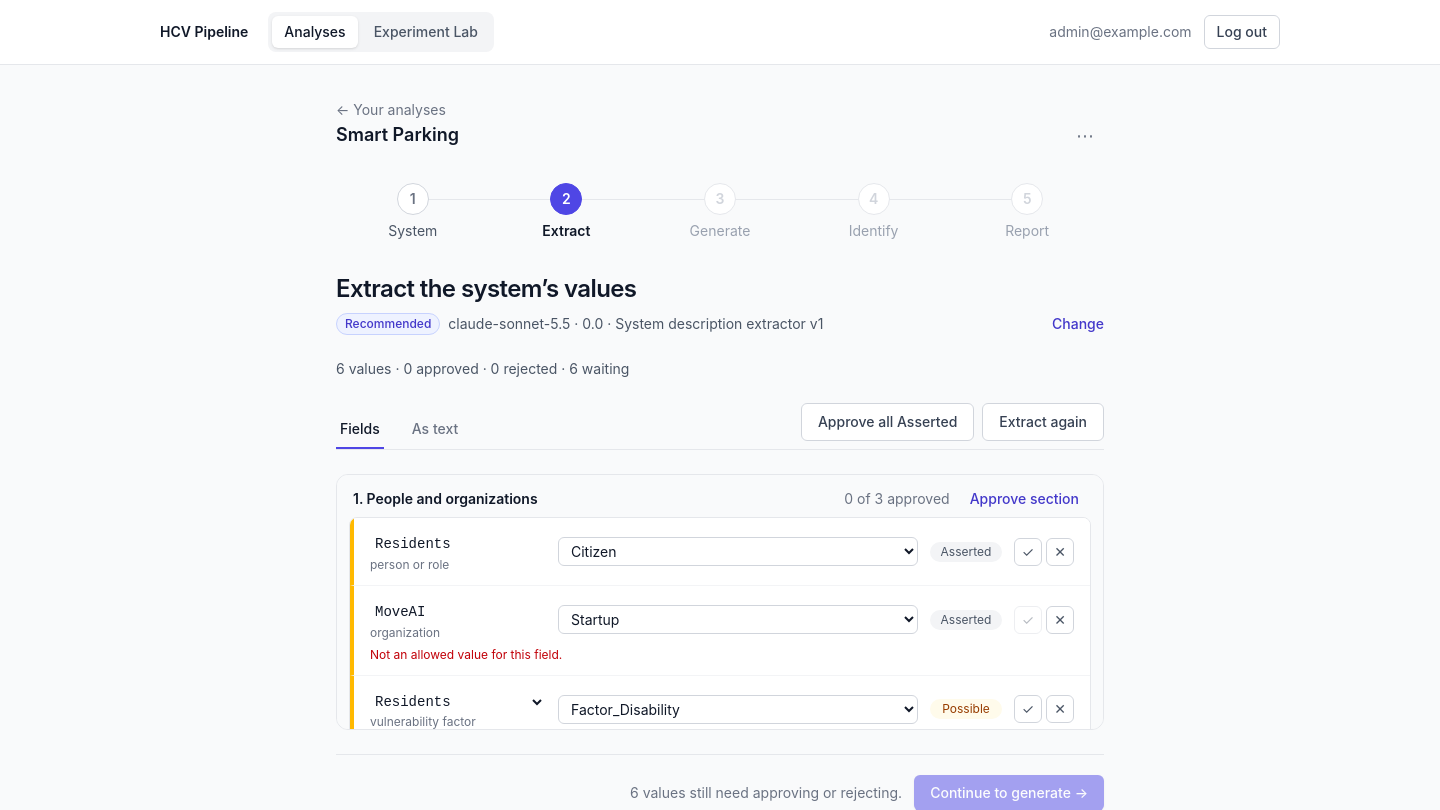
Scenario: Extract step › shows the approved values as the text the models read
The width and height of the screenshot is (1440, 810).
Click the tab "As text" at (435,434), box [408,419,462,449]
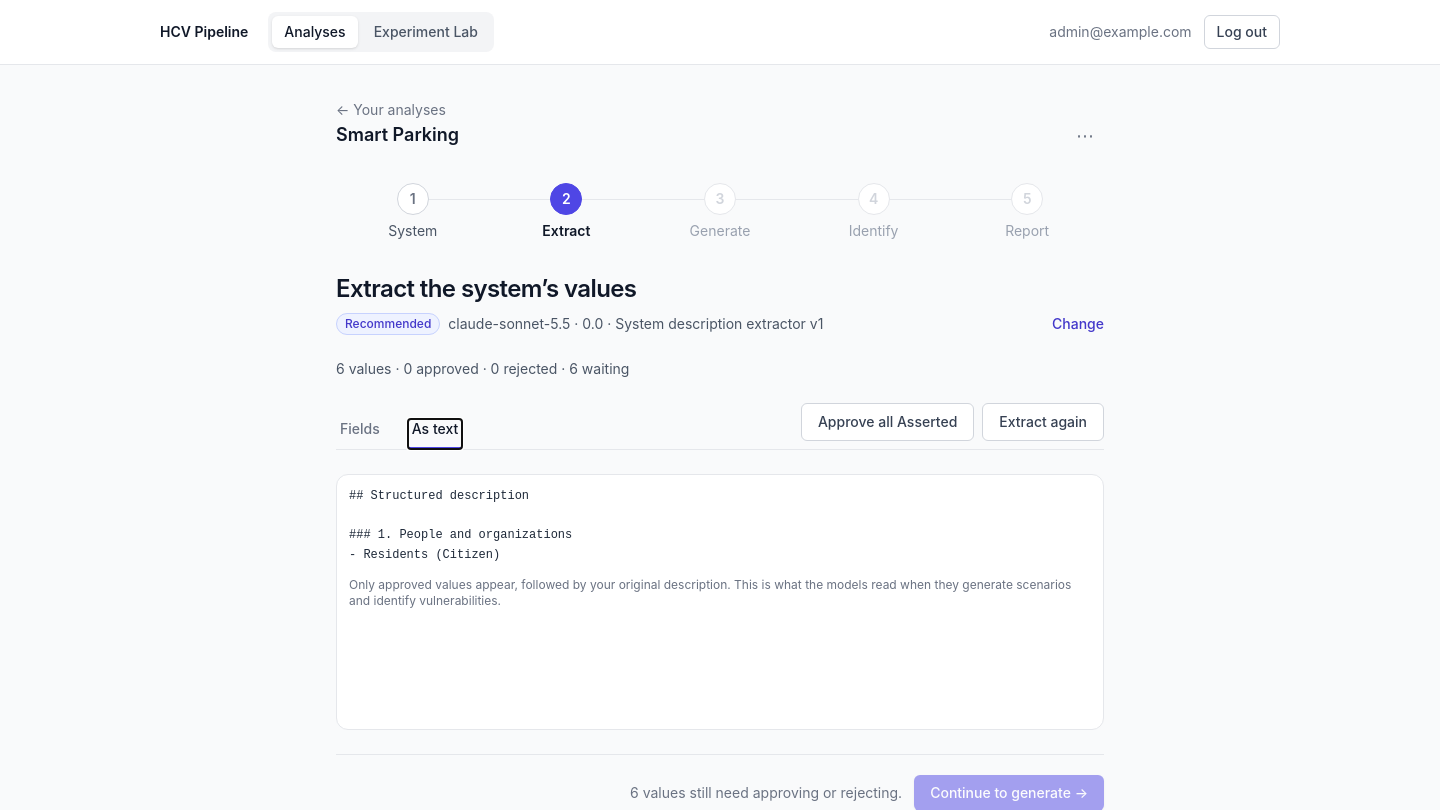
expect the panel does not show "An app lets residents pay for parking.": met, box [336,474,1104,730]
expect the panel shows "- Residents (Citizen)": met, box [349,489,572,562]
expect the panel shows "followed by your original description": met, box [349,577,1071,608]
Click the tab "Fields" at (360,434), box [336,419,384,449]
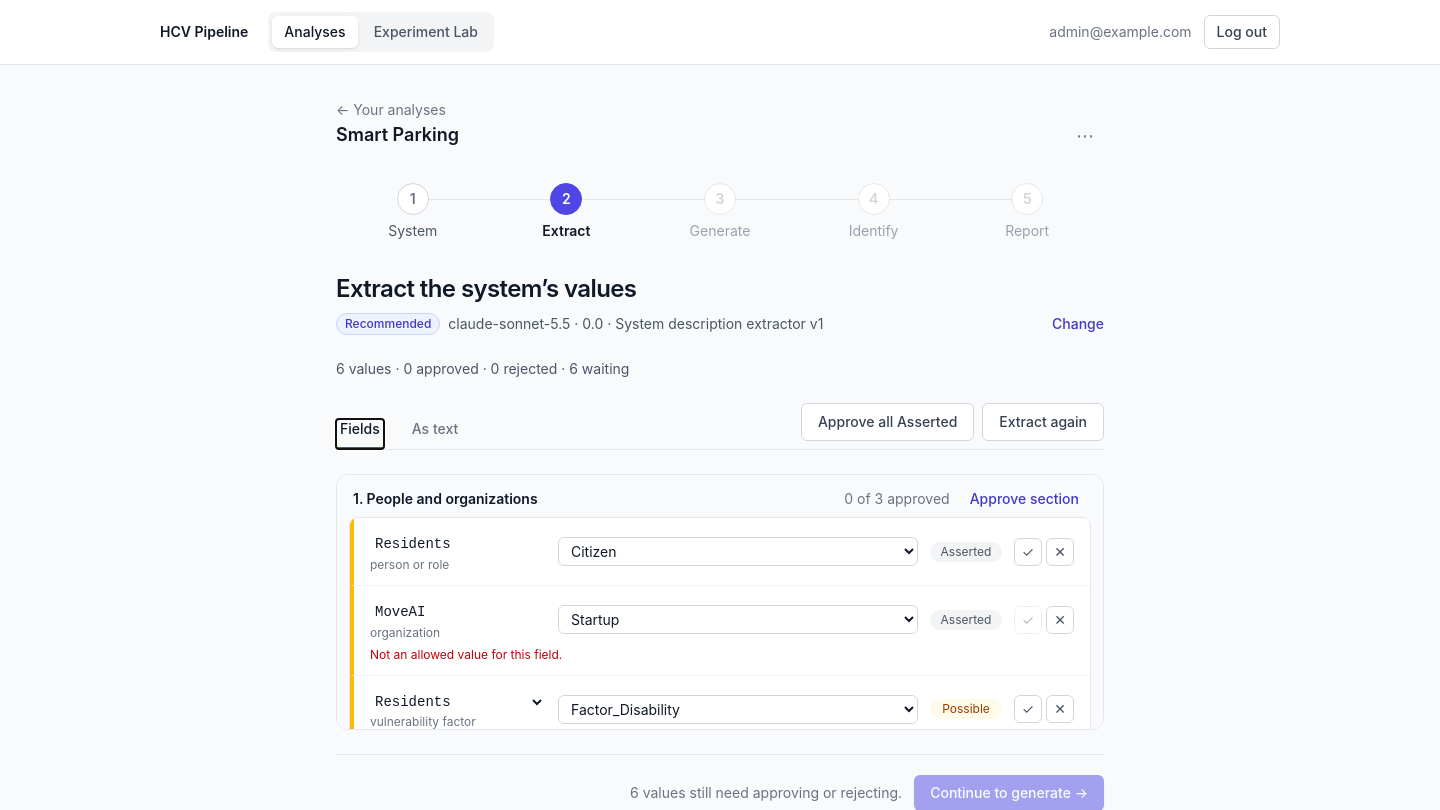
expect the element "1. People and organizations" is shown: met, box [349,487,1091,730]
